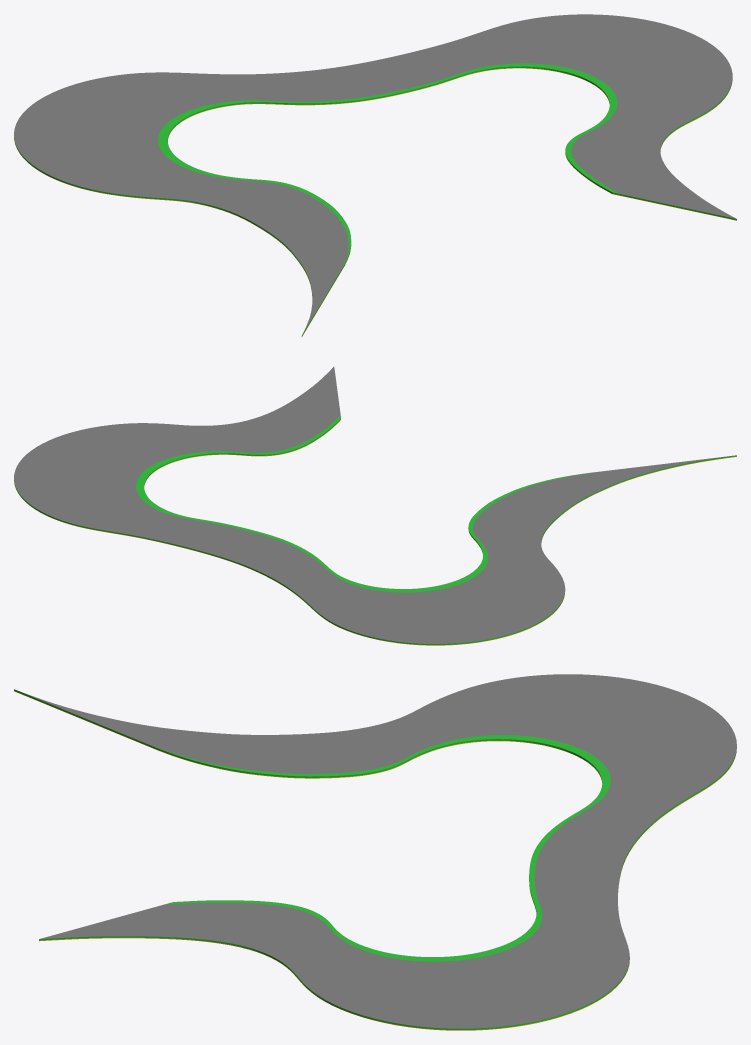
Rendered from outerFloor_Design.fbx.
3 views of the same model, one above another, from view 1: azimuth 30°, elevation 25°; view 2: azimuth 150°, elevation 25°; view 3: azimuth 270°, elevation 25° (orthographic). The views are drawn at different scales.
Visible parts, largest first — view 1: Cylinder002; view 2: Cylinder002; view 3: Cylinder002.
Boxes of the visible parts, box(x1,y1,x2,y2) form: Cylinder002: box(14, 14, 736, 337); Cylinder002: box(14, 366, 736, 645); Cylinder002: box(14, 674, 736, 1030).
Bounding box in the file's own units: 2995 × 8.1 × 2581.
